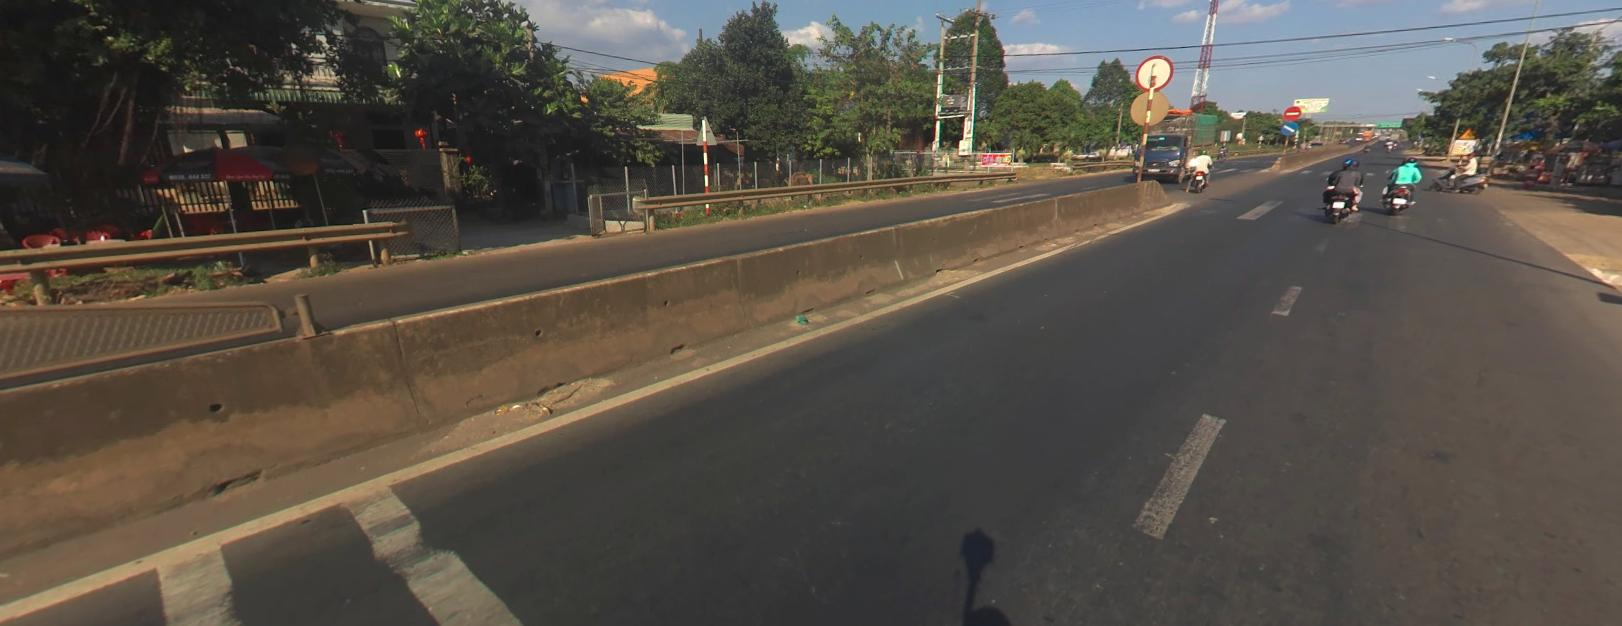Cam nguoc chieu: (1283, 105, 1301, 119)
Hieu lenh: (1280, 120, 1298, 135)
Nguy hiem: (1456, 126, 1478, 138)
